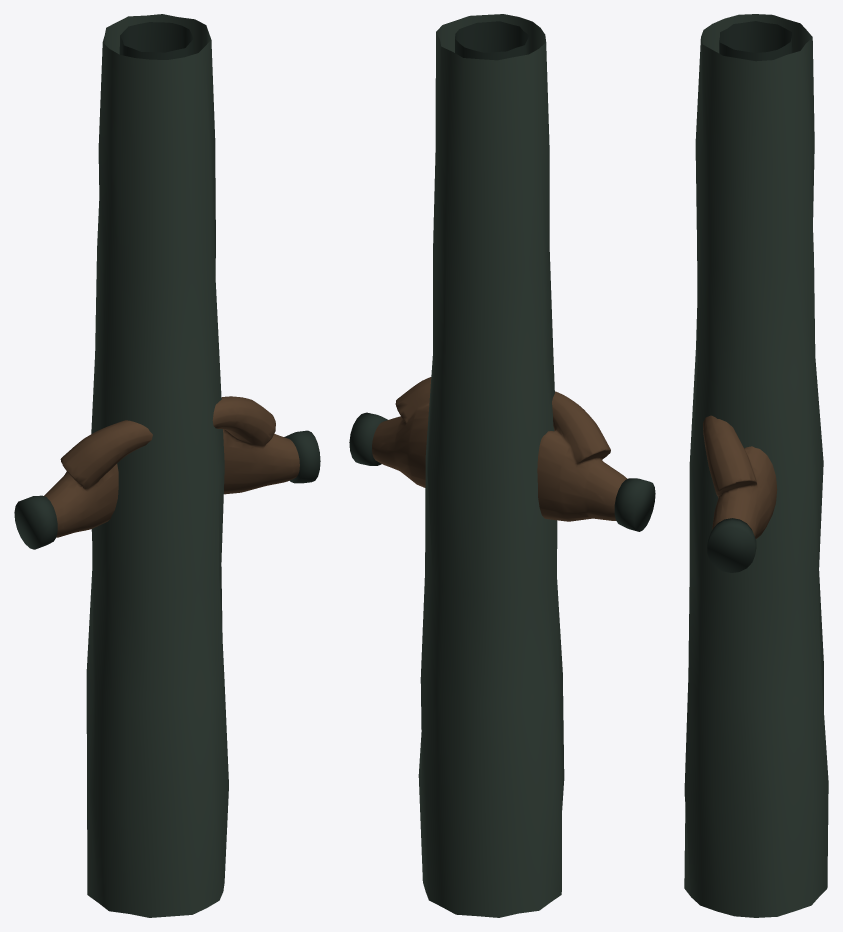
Rendered from axe_grip_hands.gltf.
The picture shows the model from 3 angles, left to right: view 1: azimuth 30°, elevation 25°; view 2: azimuth 150°, elevation 25°; view 3: azimuth 270°, elevation 25°; orthographic projection.
Visible parts, largest first — view 1: UpperSleeve, LeftHand, RightHand, ForearmSleeve, LeftWristCuff, RightWristCuff; view 2: UpperSleeve, LeftHand, RightHand, ForearmSleeve, LeftWristCuff, RightWristCuff; view 3: UpperSleeve, RightHand, ForearmSleeve, RightWristCuff.
Part boxes in pixels (left/top/right/bottom): UpperSleeve: left=86, top=14, right=228, bottom=917; LeftHand: left=44, top=420, right=152, bottom=537; RightHand: left=212, top=396, right=299, bottom=494; ForearmSleeve: left=119, top=22, right=193, bottom=59; LeftWristCuff: left=14, top=495, right=57, bottom=549; RightWristCuff: left=284, top=430, right=320, bottom=483; UpperSleeve: left=418, top=14, right=564, bottom=917; LeftHand: left=537, top=391, right=627, bottom=521; RightHand: left=372, top=377, right=431, bottom=487; ForearmSleeve: left=455, top=21, right=529, bottom=60; LeftWristCuff: left=614, top=478, right=655, bottom=531; RightWristCuff: left=349, top=412, right=387, bottom=465; UpperSleeve: left=684, top=14, right=828, bottom=917; RightHand: left=703, top=415, right=777, bottom=538; ForearmSleeve: left=719, top=21, right=792, bottom=61; RightWristCuff: left=707, top=518, right=756, bottom=572.
Size of the model in its own units: 0.3518 by 1 by 0.1536.
